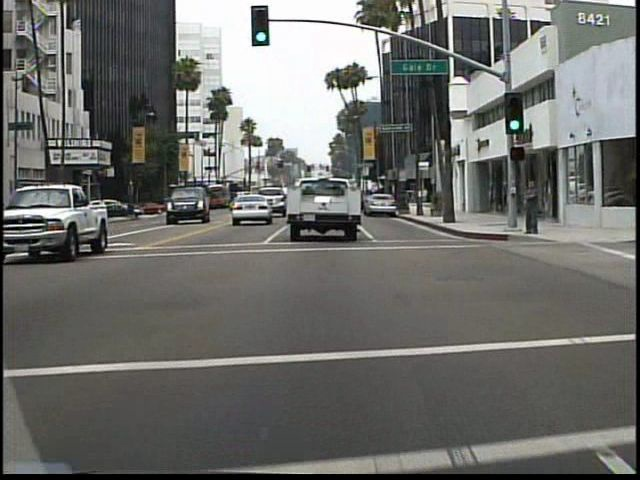person: (517, 173, 540, 241)
